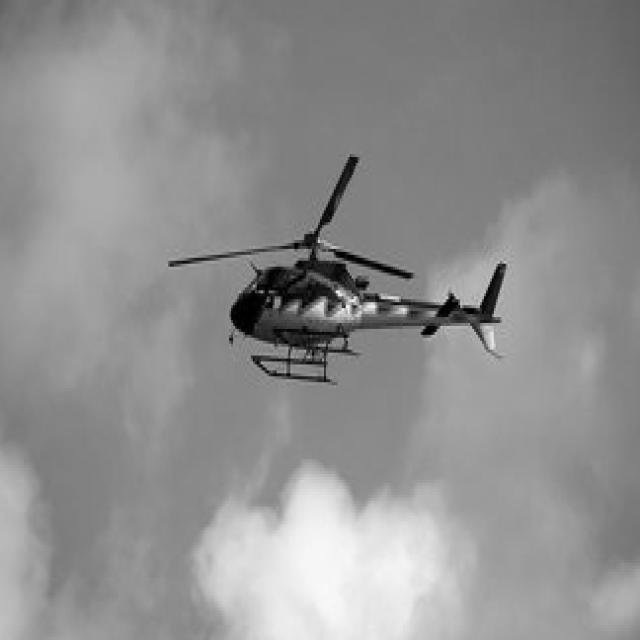helicopter: (185, 182, 515, 383)
